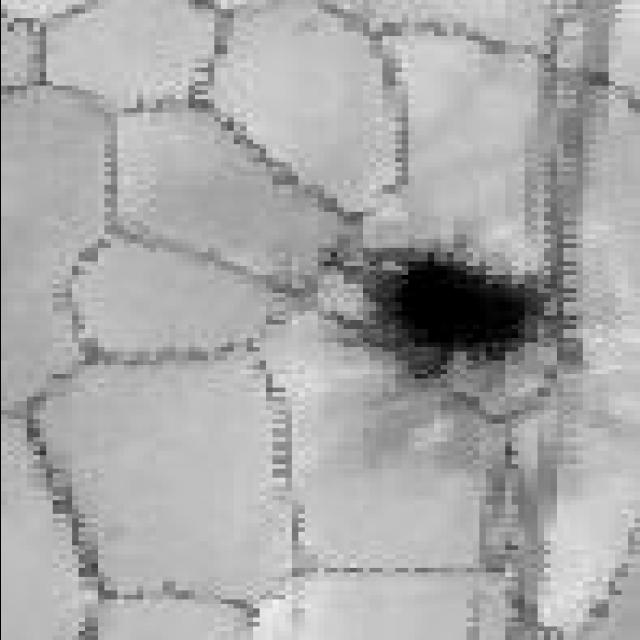good_void: (311, 237, 571, 386)
